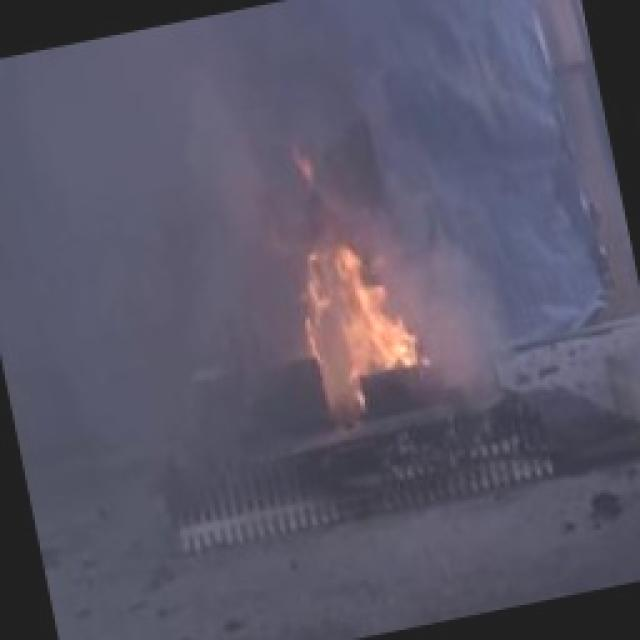fire: (282, 192, 432, 408)
